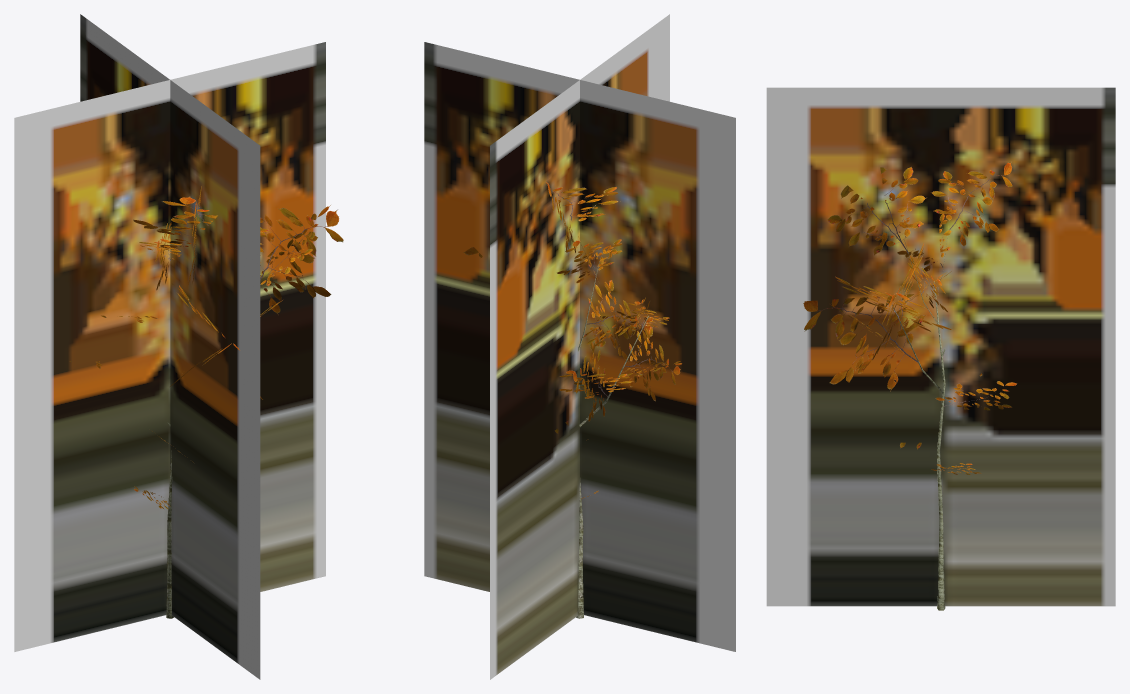
File: Tree-Beech4C.fbx
3 renders of one model, left to right at view 1: azimuth 30°, elevation 25°; view 2: azimuth 150°, elevation 25°; view 3: azimuth 270°, elevation 25°, orthographic. The views are drawn at different scales.
Visible parts, largest first — view 1: Billboard-BeechC, Tree-Beech4C_LOD0; view 2: Billboard-BeechC, Tree-Beech4C_LOD0; view 3: Billboard-BeechC, Tree-Beech4C_LOD0.
Boxes of the visible parts, box(x1,y1,x2,y2) form: Billboard-BeechC: box(14, 14, 325, 679); Tree-Beech4C_LOD0: box(69, 186, 343, 618); Billboard-BeechC: box(424, 14, 735, 679); Tree-Beech4C_LOD0: box(463, 182, 681, 618); Billboard-BeechC: box(766, 87, 1115, 606); Tree-Beech4C_LOD0: box(803, 162, 1016, 610).
Size of what is drawn, in the model's own units: 718 by 1114 by 681.
